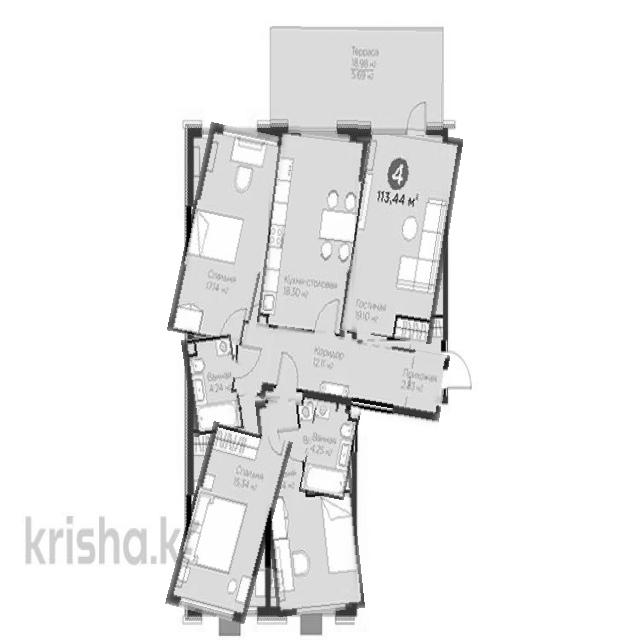bathroom: (185, 335, 241, 435), (304, 398, 358, 498)
hallway: (233, 322, 450, 416)
kitchen: (262, 129, 364, 338)
living_room: (256, 400, 365, 617), (347, 128, 456, 342), (178, 125, 279, 344), (177, 424, 282, 620)
other: (272, 27, 444, 134)
